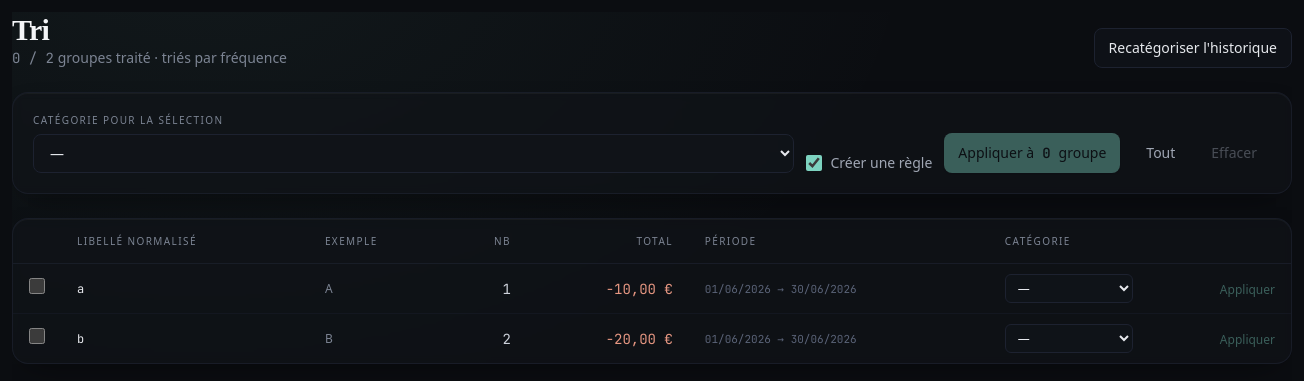
Test case: Tri page › toggle-all + clear controls disable/enable the appropriate buttons
Expected: the text "a" is shown, [61, 264, 309, 314]
Expected: the button "Effacer" is disabled, [1197, 133, 1271, 173]
Click the button "Tout" at x=1161, y=153, box [1132, 133, 1189, 173]
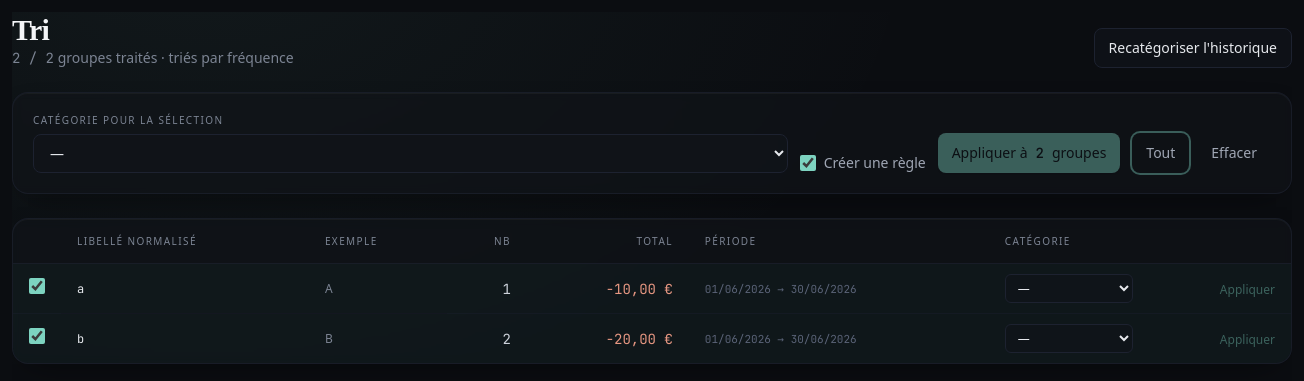
Expected: the button "Effacer" is enabled
Click the button "Effacer" at x=1234, y=153, box [1197, 133, 1271, 173]
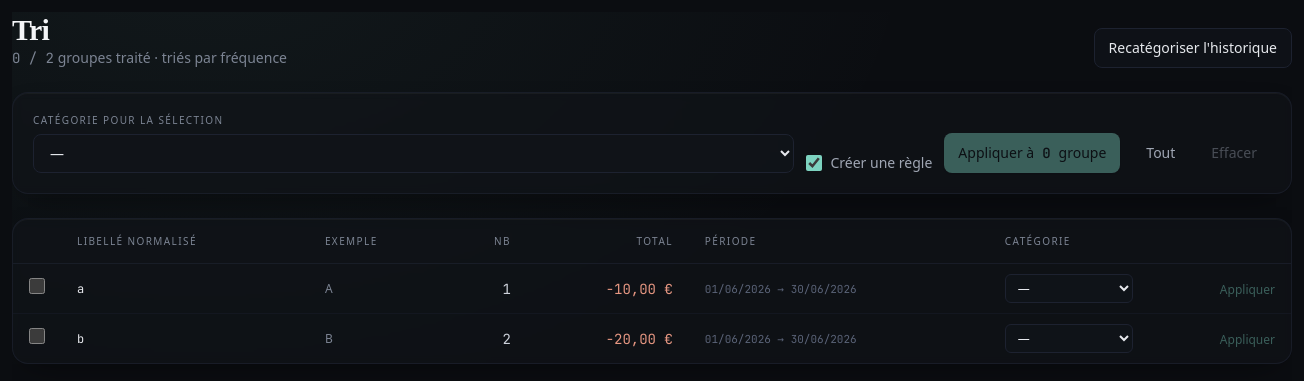
Expected: the button "Effacer" is disabled, [1197, 133, 1271, 173]
